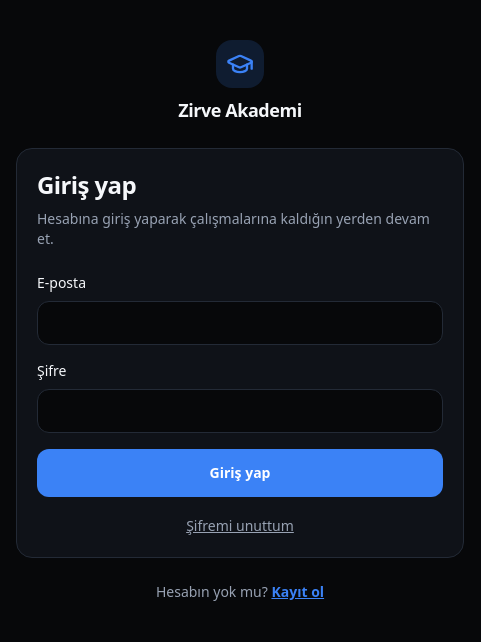
it: giriş formu boş alanlarda Türkçe hata gösterir ve istek atmaz
The image size is (481, 642).
What coordinates should you click on to do the following:
click the button "Giriş yap"
I would click on:
 (240, 473)
Its box is [37,449,443,497].
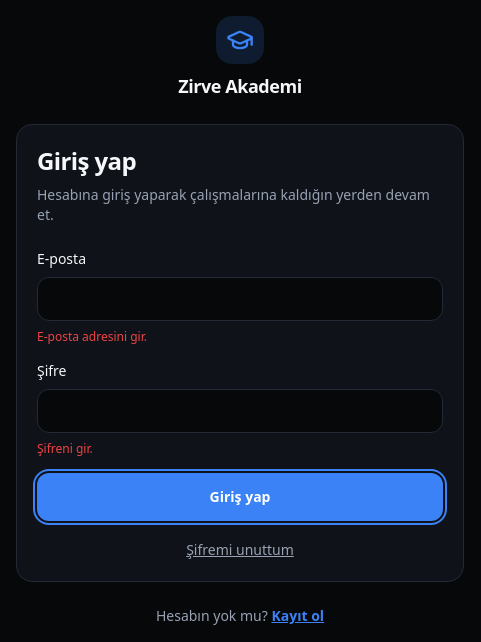
Expected: the text "E-posta adresini gir." is shown, [37,328,147,345]
Expected: the text "Şifreni gir." is shown, [37,440,93,457]
